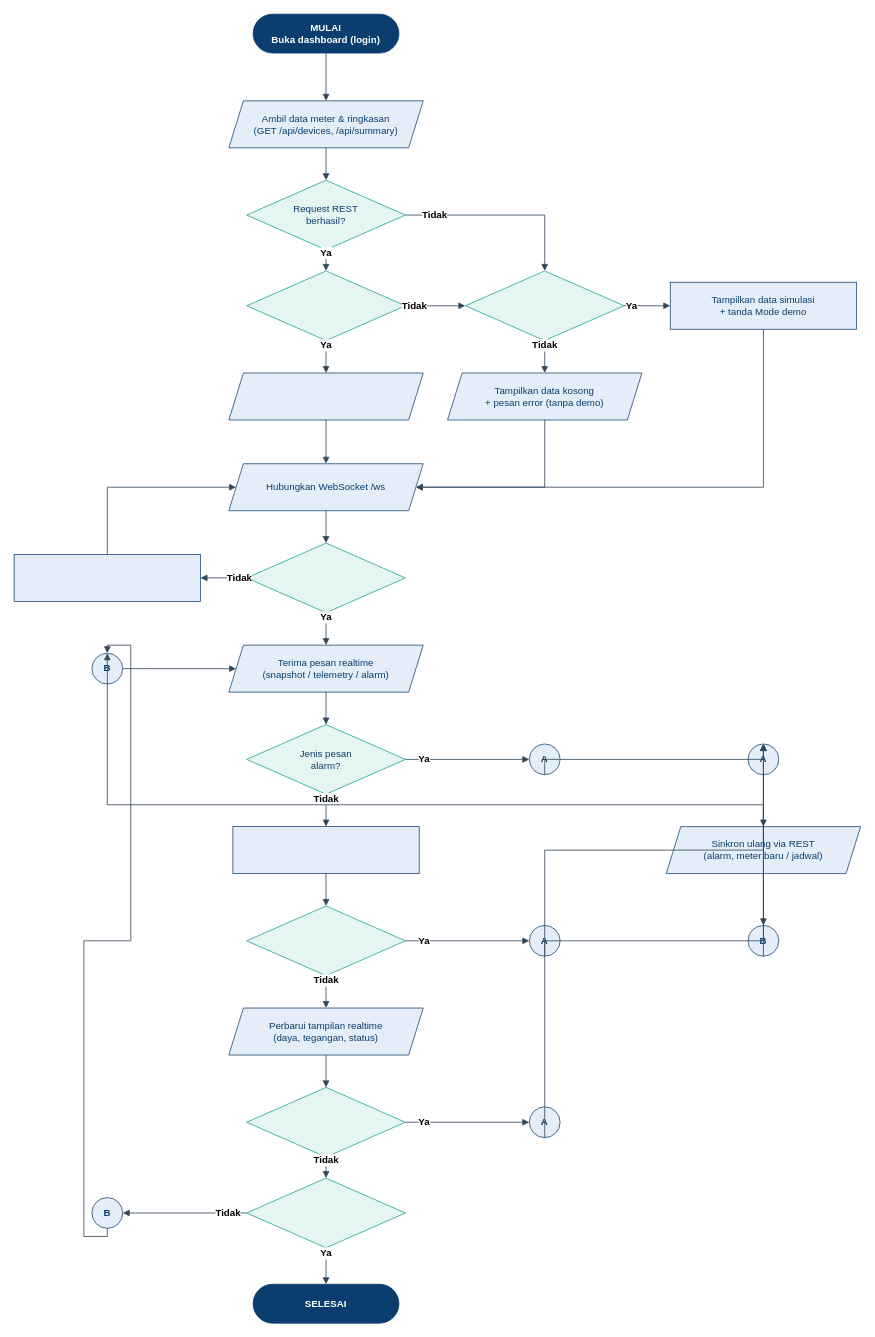
The diagram is 875 pixels wide and 1337 high, and some of its shapes have lost their labels. The shapes that lost their labels are listed below. From the top down, each one's box as (x1, y1, x2, y2) in pixels, then its label:
(246, 270, 405, 341): Data meter tersedia?
(465, 270, 624, 341): NEXT_PUBLIC_DEMO_MODE aktif?
(228, 372, 423, 420): Tampilkan KPI, grafik, dan status meter
(13, 554, 200, 601): Tunggu 3 detik, hubungkan ulang
(246, 542, 405, 613): WebSocket terhubung?
(232, 826, 419, 874): Antrekan telemetry per meter, terapkan tiap 1 detik
(246, 905, 405, 976): Ada meter baru?
(246, 1087, 405, 1157): Sudah 60 detik sejak sinkron REST penuh?
(246, 1177, 405, 1248): Halaman ditutup?
